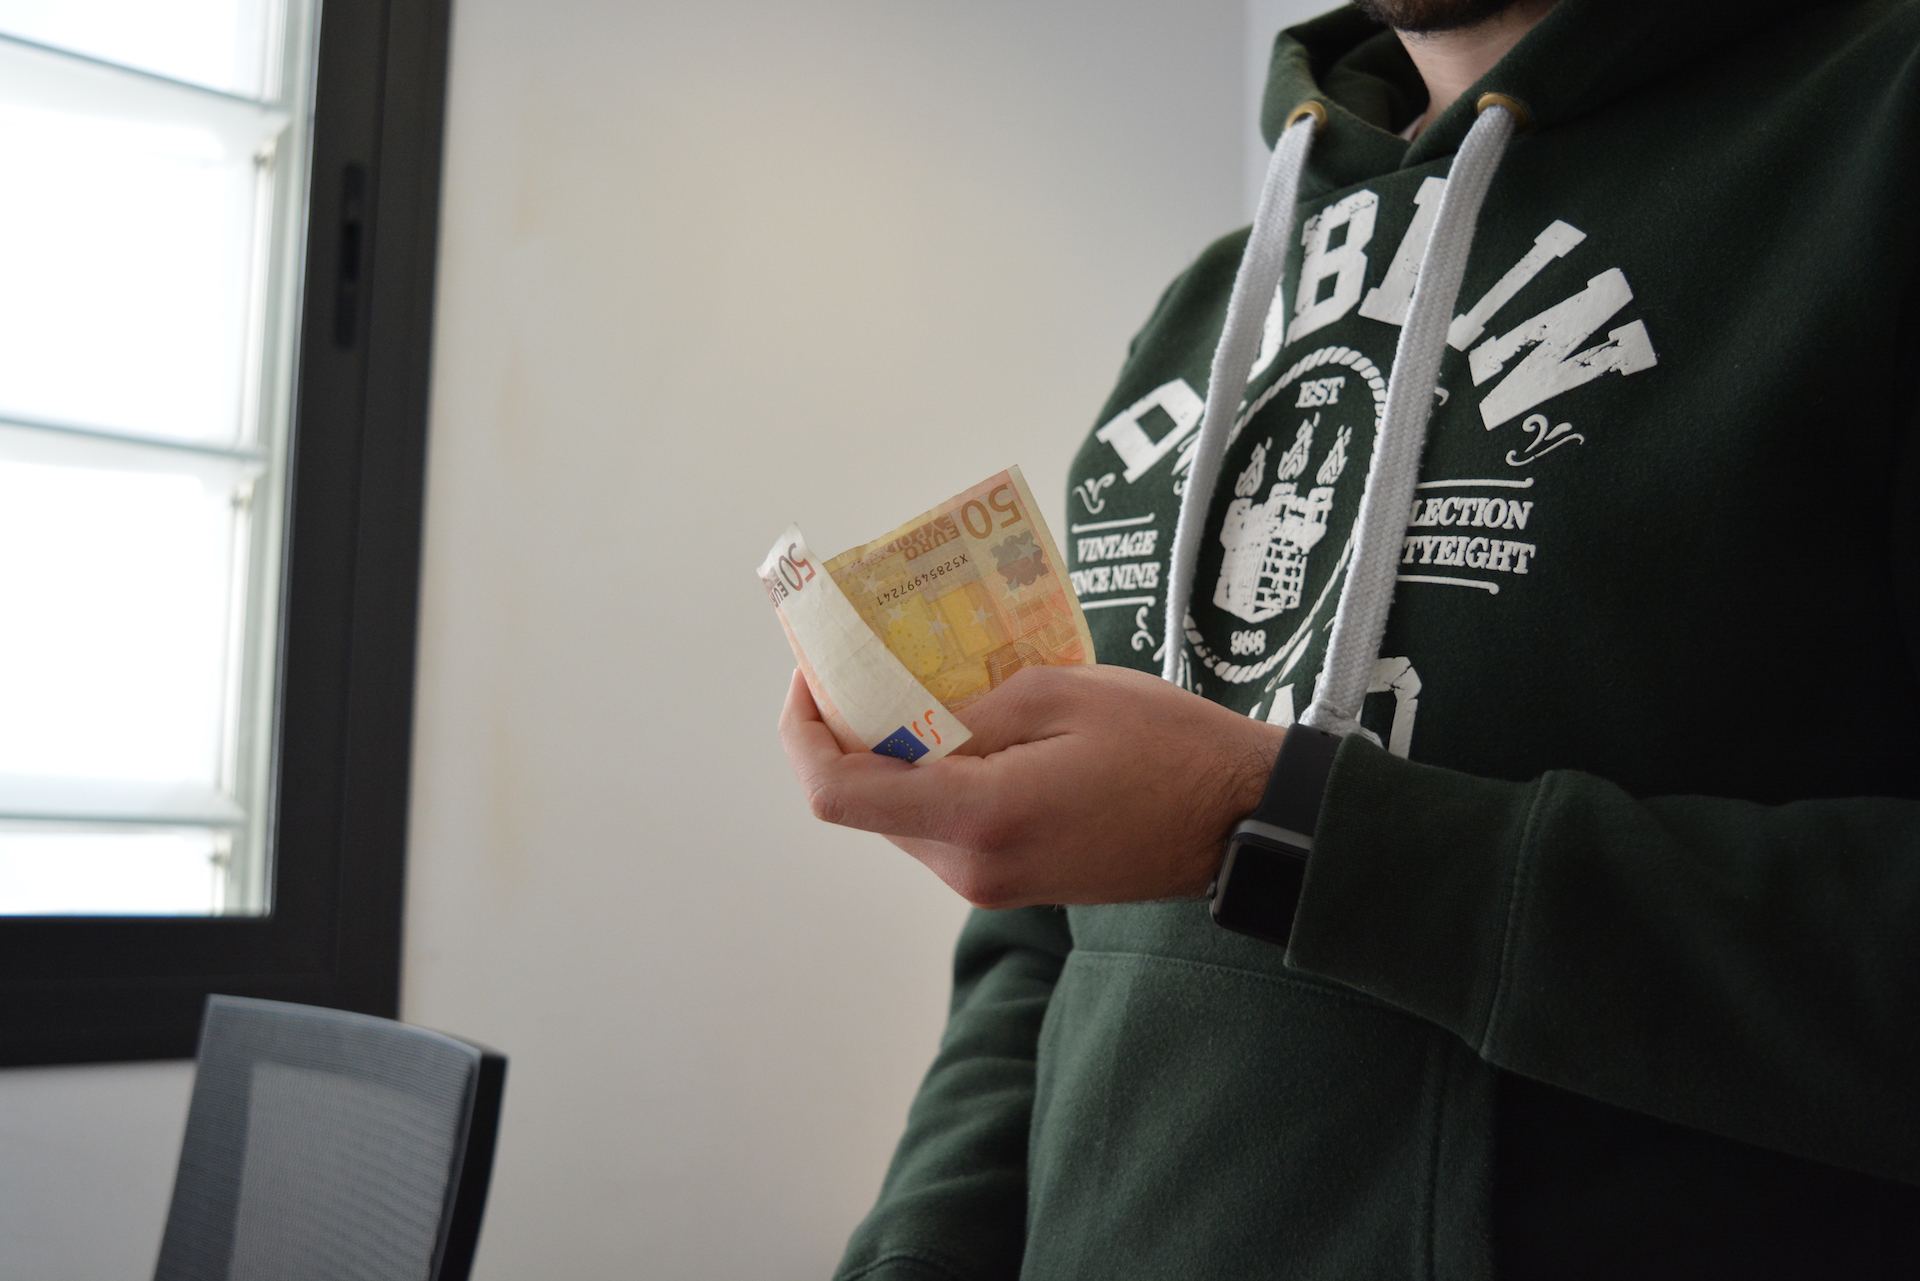billete: (755, 460, 1101, 771)
